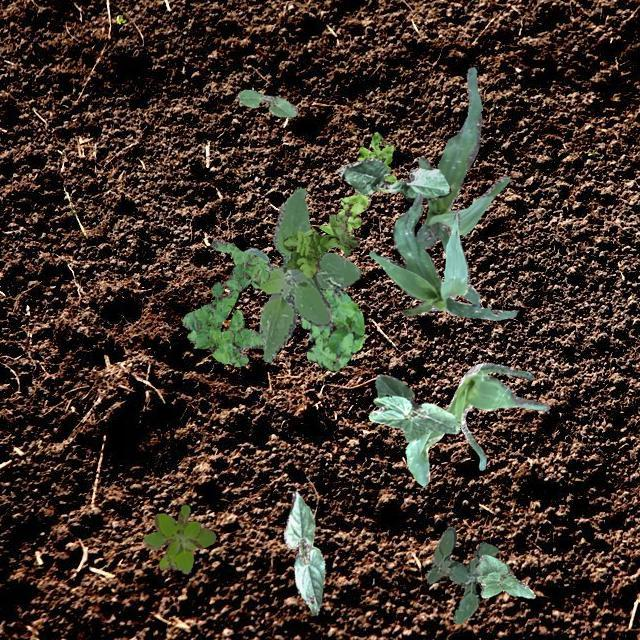crop: (414, 66, 508, 304), (368, 192, 518, 320), (404, 362, 548, 484), (368, 372, 460, 442), (282, 491, 324, 614), (336, 157, 449, 200), (474, 554, 534, 598), (236, 88, 296, 116)
weed: (244, 186, 360, 362), (180, 238, 270, 366), (424, 526, 508, 622), (319, 130, 395, 236), (300, 288, 364, 369), (143, 503, 215, 572), (282, 214, 358, 276)
